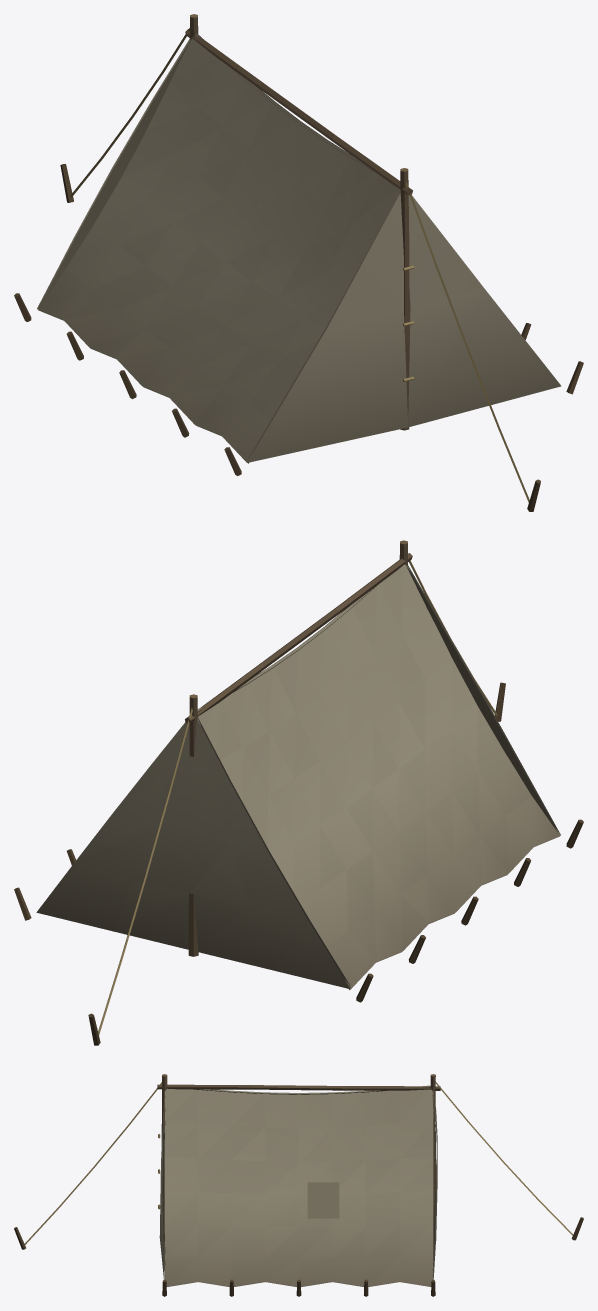
The model's file is carpa_tropa_b.glb.
3 views of the same model, one above another, from view 1: azimuth 30°, elevation 25°; view 2: azimuth 150°, elevation 25°; view 3: azimuth 270°, elevation 25° (orthographic). The views are drawn at different scales.
Visible parts, largest first — view 1: CarpaTropaB; view 2: CarpaTropaB; view 3: CarpaTropaB.
Part boxes in pixels (box(x1,y1,x2,y2)): CarpaTropaB: box(14, 14, 583, 511); CarpaTropaB: box(14, 540, 583, 1045); CarpaTropaB: box(14, 1074, 583, 1296).
Size of what is drawn, in the model's own units: 2.17 by 1.53 by 4.67.
